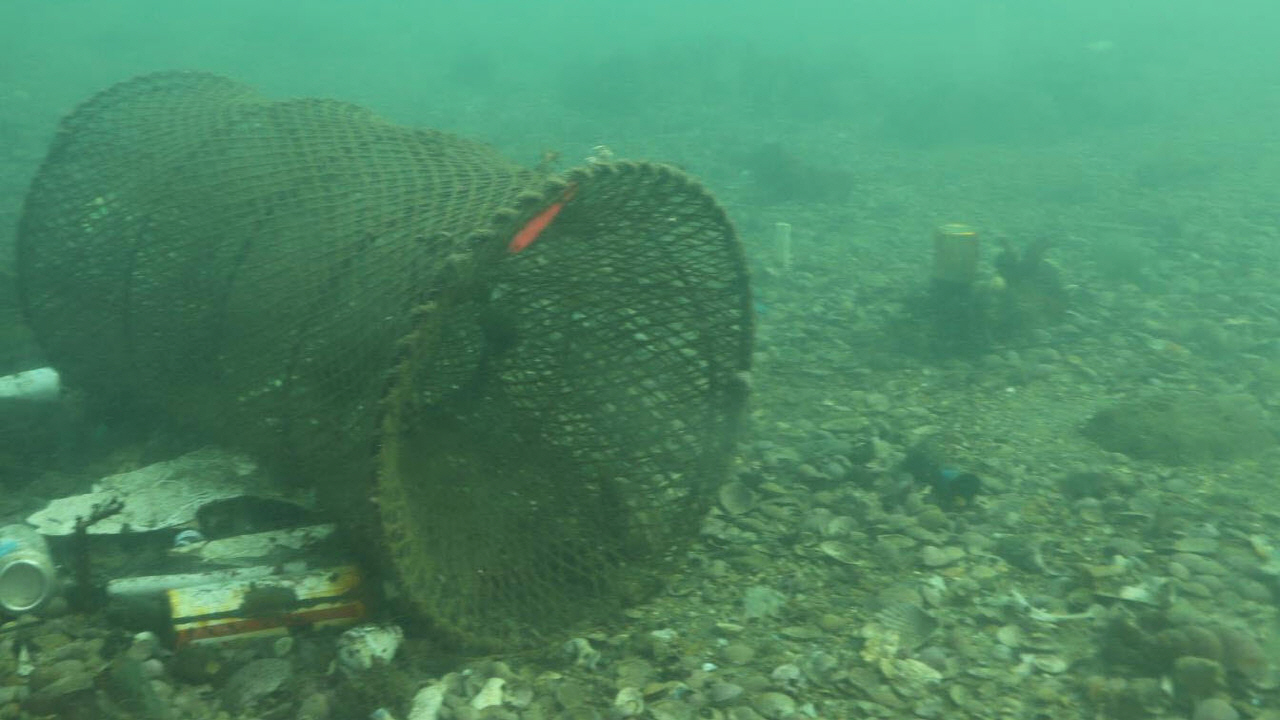spring fish trap: (17, 68, 754, 653)
